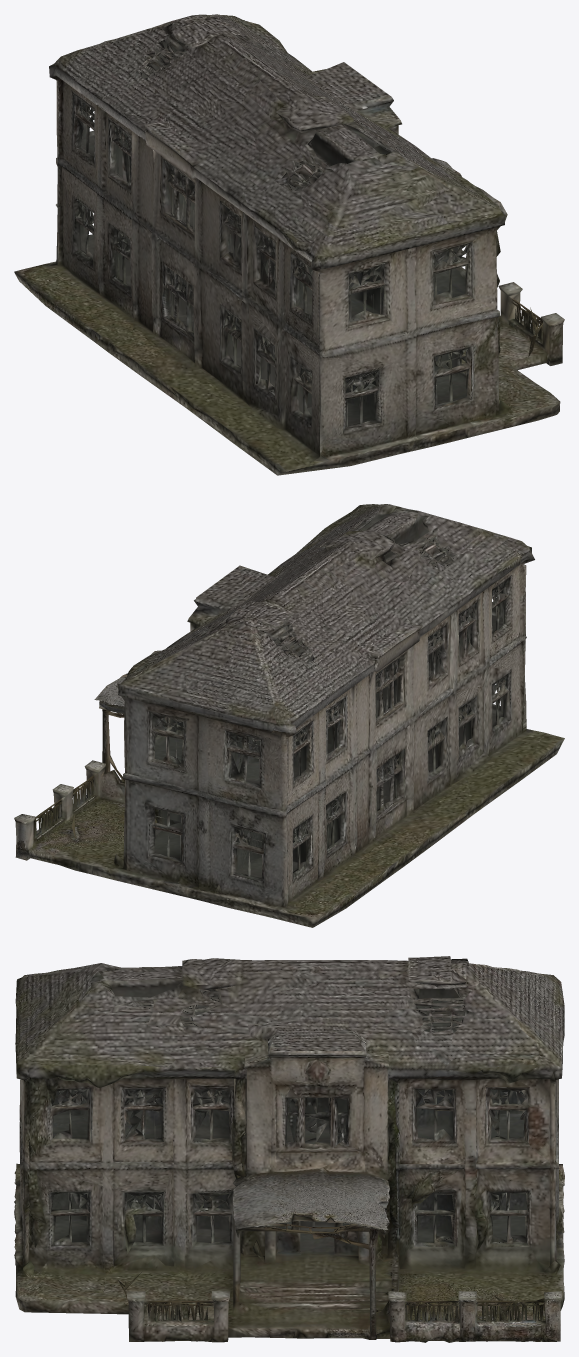
The model's file is tripo_convert_4c37b9dc-6ac2-492b-a8c6-b3c5ea64bfb9.fbx.
3 renders of one model, top to bottom at view 1: azimuth 30°, elevation 25°; view 2: azimuth 150°, elevation 25°; view 3: azimuth 270°, elevation 25°, orthographic. The views are drawn at different scales.
Visible parts, largest first — view 1: tripo_node_4c37b9dc; view 2: tripo_node_4c37b9dc; view 3: tripo_node_4c37b9dc.
Part boxes in pixels (<box>): tripo_node_4c37b9dc: <box>14,14,564,475</box>; tripo_node_4c37b9dc: <box>14,504,564,927</box>; tripo_node_4c37b9dc: <box>14,956,564,1342</box>.
Bounding box in the file's own units: 0.6913 × 0.5549 × 0.9785.
Materials: 1 (1 with a texture image).
